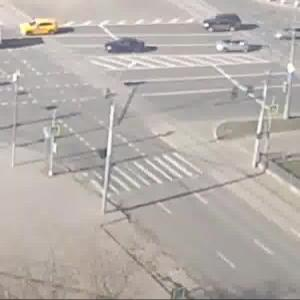car: (109, 37, 152, 55), (208, 16, 251, 34), (221, 35, 256, 55), (23, 20, 66, 36), (277, 30, 300, 46)
